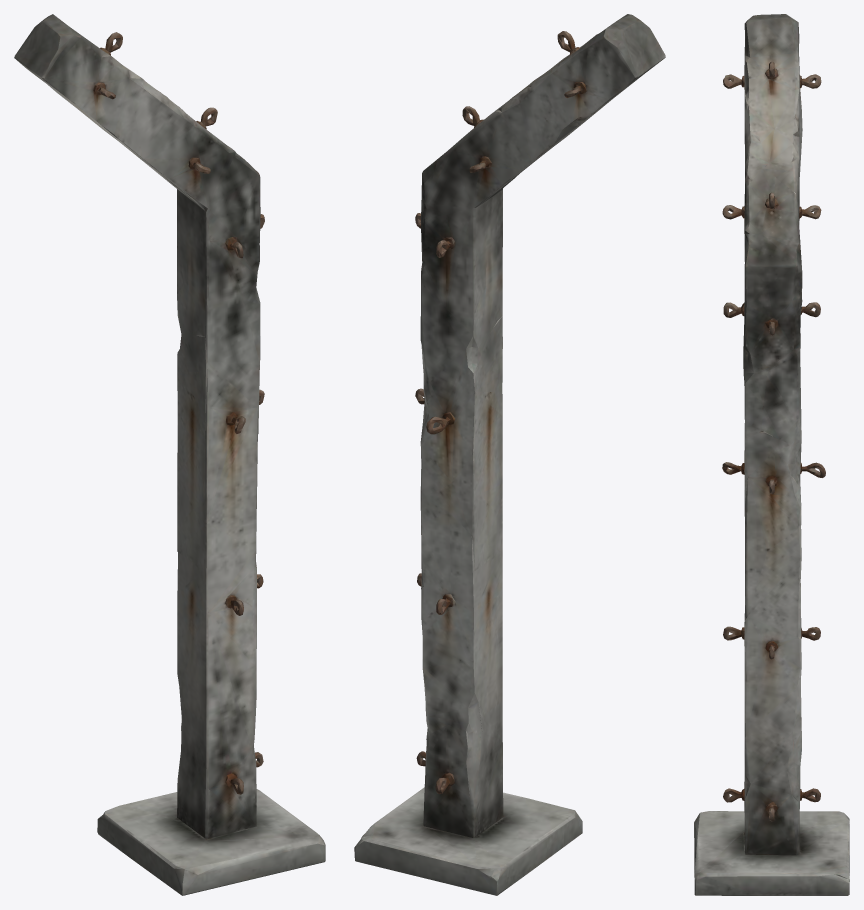
The model's file is sperrzone_fence_post.glb.
3 views of the same model, side by side, from view 1: azimuth 30°, elevation 25°; view 2: azimuth 150°, elevation 25°; view 3: azimuth 270°, elevation 25° (orthographic). The views are drawn at different scales.
Parts seen in each view (by area): view 1: main; view 2: main; view 3: main.
Boxes of the visible parts, <box> form: main: <box>14,14,325,895</box>; main: <box>354,14,665,895</box>; main: <box>694,14,849,895</box>.
Bounding box in the file's own units: 0.7285 × 2.35 × 0.4243.
Materials: 1 (1 with a texture image).
